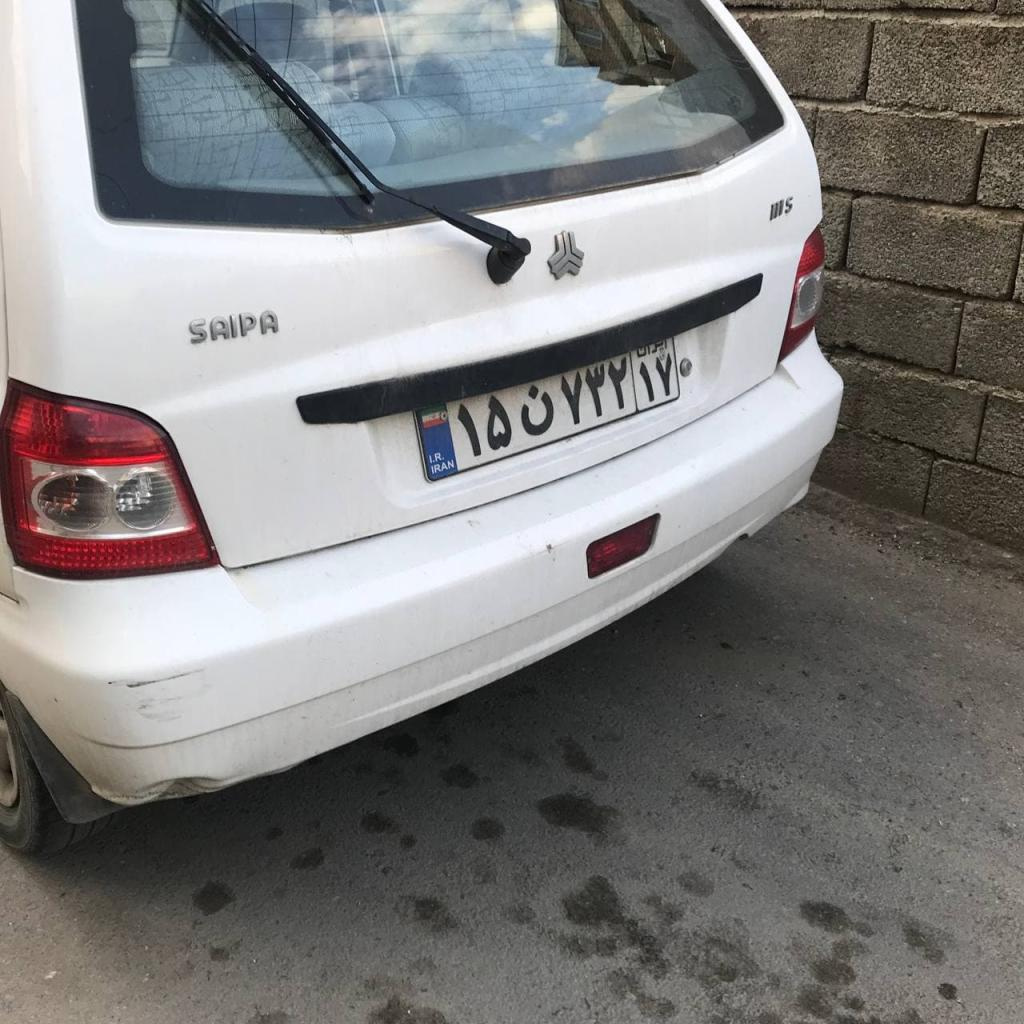Plates: (414, 333, 680, 481)
